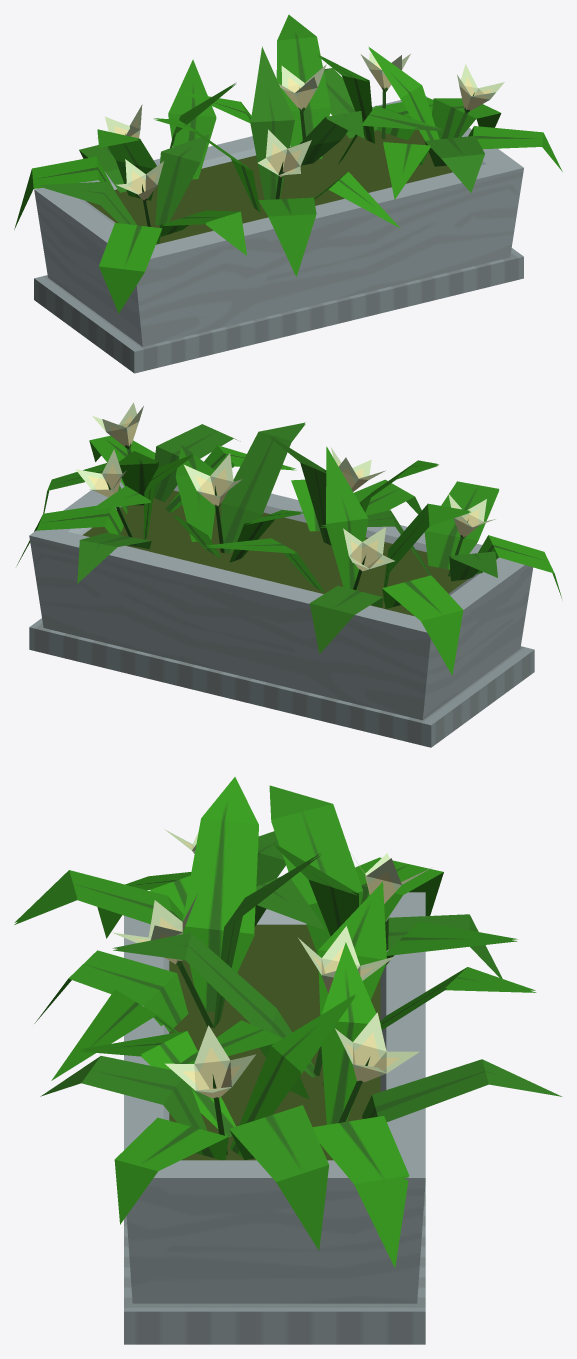
The model's file is Potted Plant 02.fbx.
3 renders of one model, top to bottom at view 1: azimuth 30°, elevation 25°; view 2: azimuth 150°, elevation 25°; view 3: azimuth 270°, elevation 25°, orthographic. The views are drawn at different scales.
Parts seen in each view (by area): view 1: Potted_Plant_02; view 2: Potted_Plant_02; view 3: Potted_Plant_02.
Boxes of the visible parts, left/top/right/bottom form: Potted_Plant_02: left=14, top=14, right=562, bottom=373; Potted_Plant_02: left=17, top=402, right=561, bottom=747; Potted_Plant_02: left=14, top=777, right=562, bottom=1344.
Size of the model in its own units: 217 by 105 by 150.
